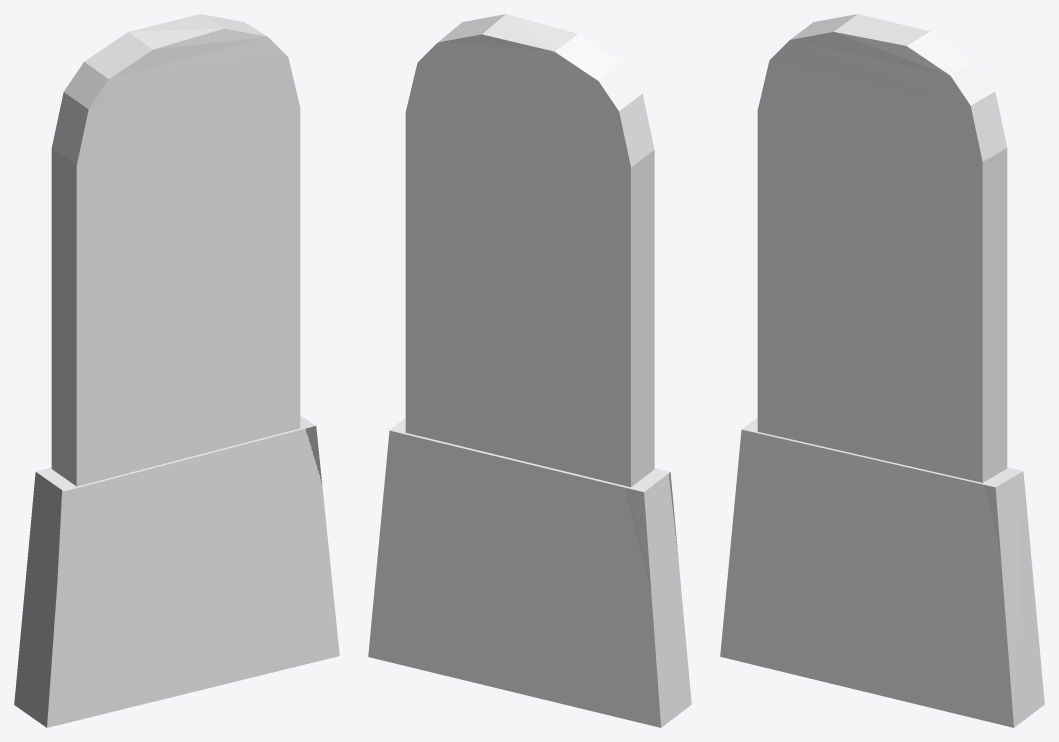
Rendered from maya_stelae_1.dae.
The picture shows the model from 3 angles, left to right: view 1: azimuth 30°, elevation 25°; view 2: azimuth 150°, elevation 25°; view 3: azimuth 330°, elevation 25°; orthographic projection.
Visible parts, largest first — view 1: STELAE; view 2: STELAE; view 3: STELAE.
Boxes of the visible parts, box(x1,y1,x2,y2) form: STELAE: box(14, 14, 339, 727); STELAE: box(368, 14, 691, 727); STELAE: box(720, 14, 1044, 727).
Bounding box in the file's own units: 2.68 × 0.5098 × 5.68.
